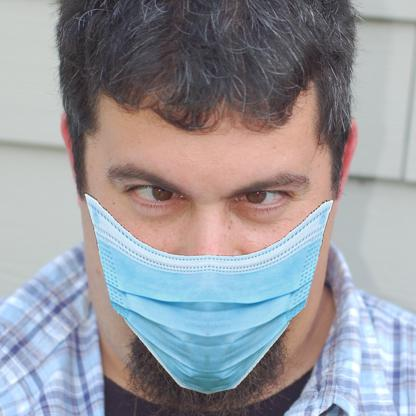mask: (81, 186, 337, 397)
